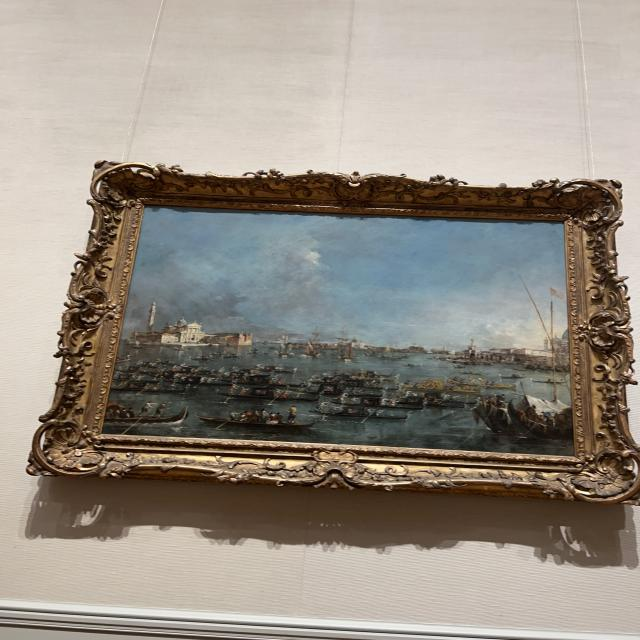ships: (106, 208, 574, 454)
